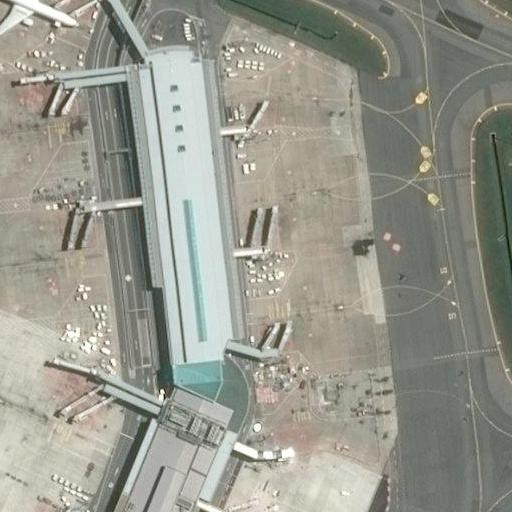Aircraft: (0, 0, 80, 43)
